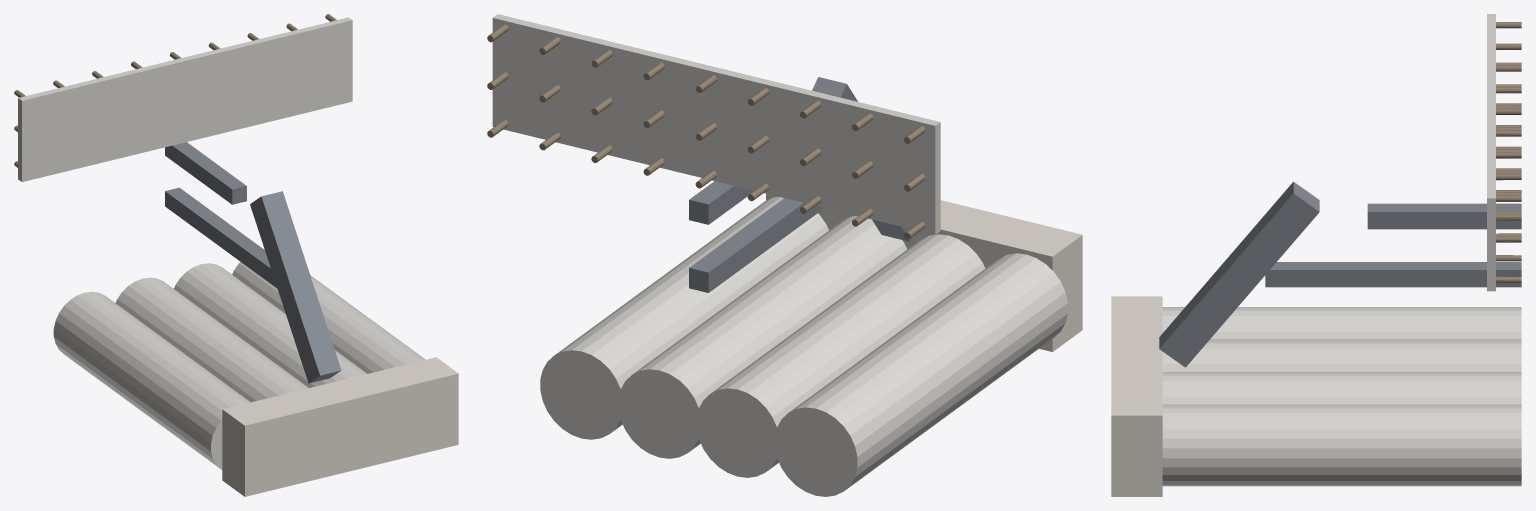
The model's file is r-154-redwood-city-cement-silos.glb.
3 renders of one model, left to right at view 1: azimuth 30°, elevation 25°; view 2: azimuth 150°, elevation 25°; view 3: azimuth 270°, elevation 25°, orthographic. The views are drawn at different scales.
Visible parts, largest first — view 1: silos, wharf-deck, headhouse, conveyor-gallery, wharf-piles; view 2: silos, wharf-deck, headhouse, conveyor-gallery, wharf-piles; view 3: silos, conveyor-gallery, headhouse, wharf-piles, wharf-deck.
Part boxes in pixels (x1=…): silos: x1=53, y1=249, x2=425, y2=469; wharf-deck: x1=18, y1=17, x2=352, y2=181; headhouse: x1=222, y1=357, x2=458, y2=496; conveyor-gallery: x1=165, y1=142, x2=341, y2=383; wharf-piles: x1=14, y1=14, x2=336, y2=167; silos: x1=540, y1=196, x2=1067, y2=496; wharf-deck: x1=492, y1=14, x2=940, y2=234; headhouse: x1=766, y1=193, x2=1082, y2=351; conveyor-gallery: x1=689, y1=77, x2=912, y2=292; wharf-piles: x1=487, y1=24, x2=925, y2=239; silos: x1=1162, y1=307, x2=1521, y2=486; conveyor-gallery: x1=1159, y1=181, x2=1521, y2=367; headhouse: x1=1111, y1=296, x2=1162, y2=496; wharf-piles: x1=1496, y1=22, x2=1521, y2=283; wharf-deck: x1=1487, y1=14, x2=1495, y2=291.
Size of the model in its own units: 34000 by 28499 by 31999.
